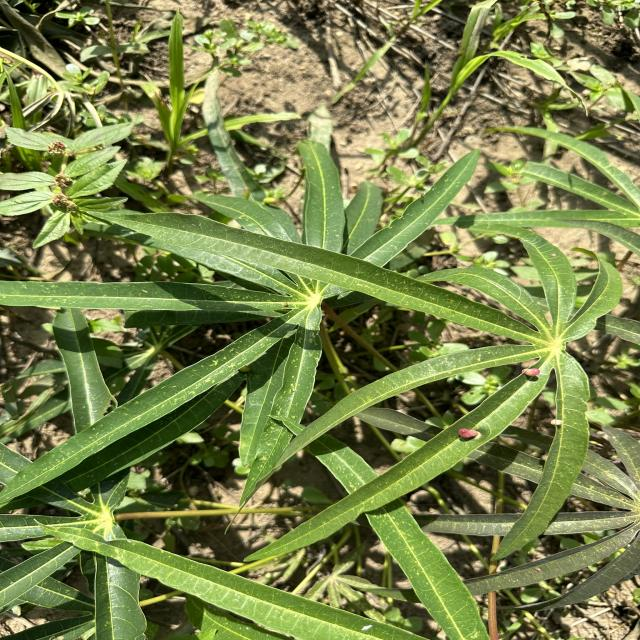Mosca: (233, 183, 289, 218), (453, 413, 488, 462), (518, 354, 544, 392), (546, 406, 574, 435)
